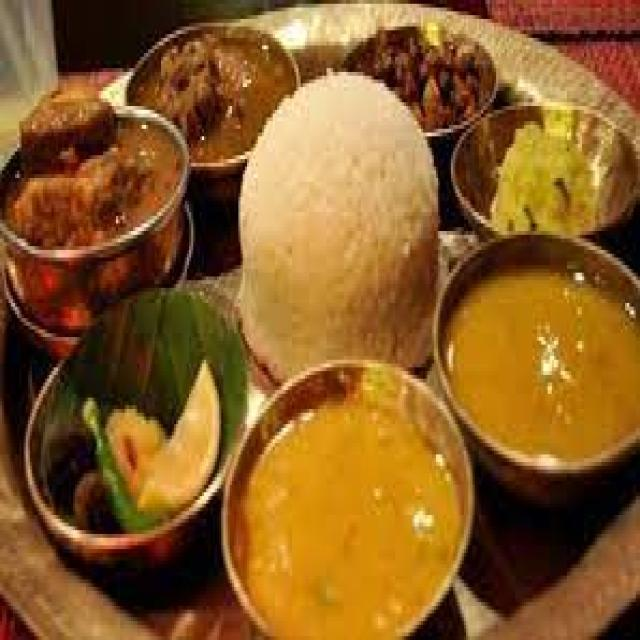dal: (445, 237, 626, 493)
rice: (443, 53, 639, 264)
